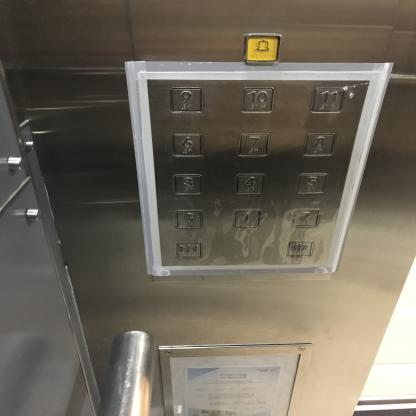1: (232, 208, 261, 228)
10: (240, 86, 275, 114)
11: (308, 87, 347, 114)
2: (290, 207, 322, 228)
3: (172, 173, 204, 196)
4: (233, 173, 266, 195)
5: (294, 172, 328, 194)
6: (171, 132, 203, 157)
7: (237, 133, 270, 156)
8: (302, 132, 336, 156)
9: (170, 86, 204, 114)
G: (174, 209, 203, 229)
alarm: (244, 32, 282, 66)
close: (175, 241, 203, 259)
open: (285, 240, 314, 257)
